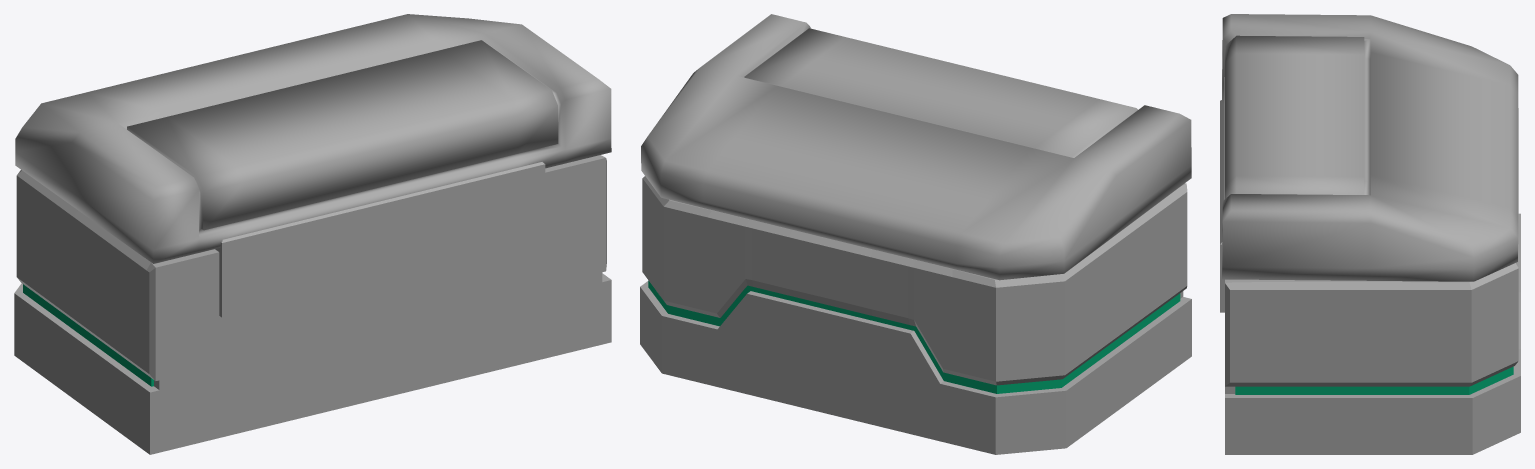
Rendered from Trashcontainer_01.fbx.
3 renders of one model, left to right at view 1: azimuth 30°, elevation 25°; view 2: azimuth 150°, elevation 25°; view 3: azimuth 270°, elevation 25°, orthographic. The views are drawn at different scales.
Visible parts, largest first — view 1: TrashcanBottom_02, TrashcanTop_02; view 2: TrashcanBottom_02, TrashcanTop_02; view 3: TrashcanTop_02, TrashcanBottom_02.
Boxes of the visible parts, <box> form: TrashcanBottom_02: <box>14,155,611,454</box>; TrashcanTop_02: <box>15,14,611,263</box>; TrashcanBottom_02: <box>640,176,1191,454</box>; TrashcanTop_02: <box>641,14,1191,280</box>; TrashcanTop_02: <box>1222,14,1518,281</box>; TrashcanBottom_02: <box>1220,100,1520,454</box>.
Bounding box in the file's own units: 206 × 112 × 128.
